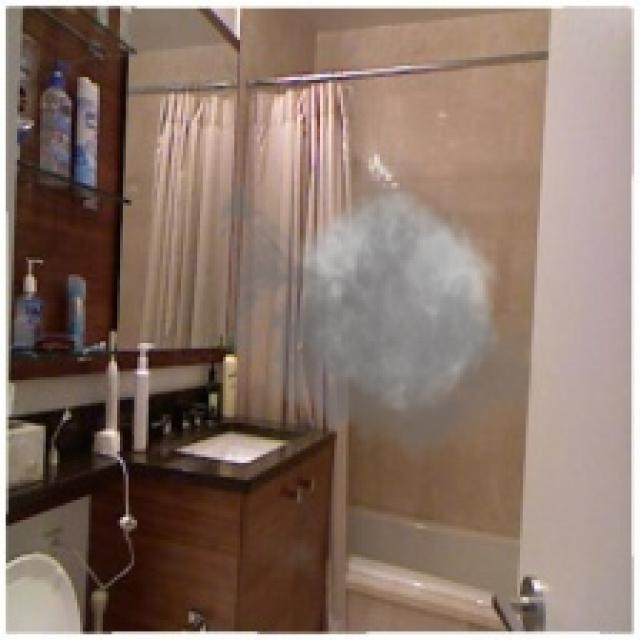Smoke: (206, 126, 548, 477)
